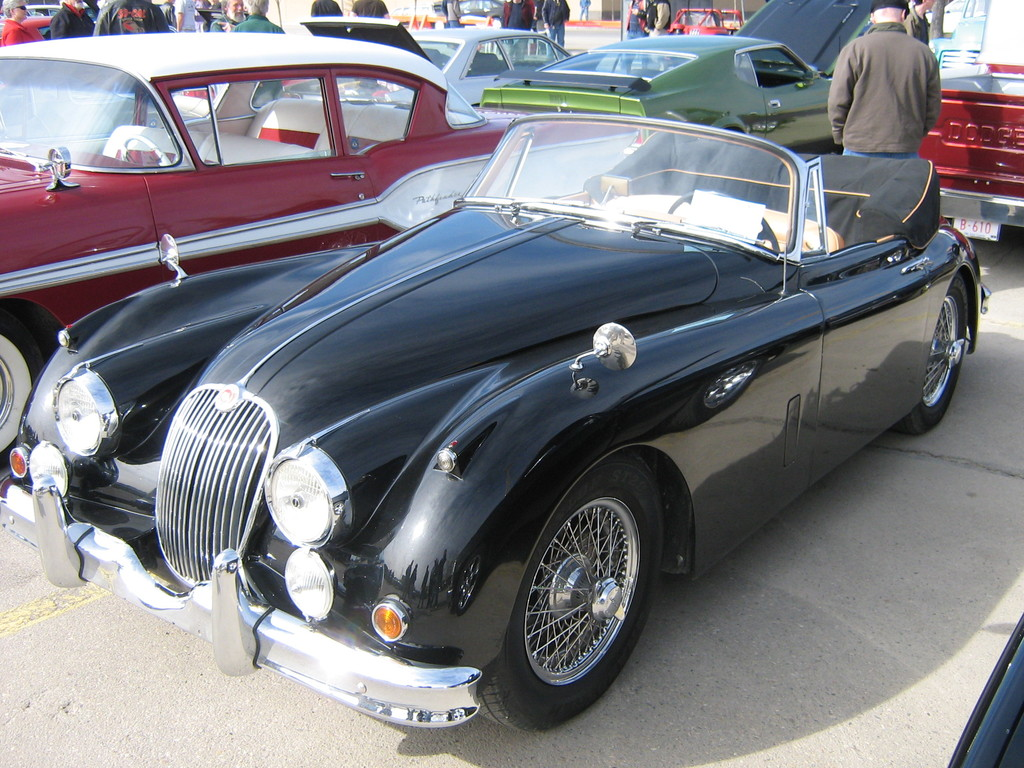Car: (0, 0, 1023, 740)
